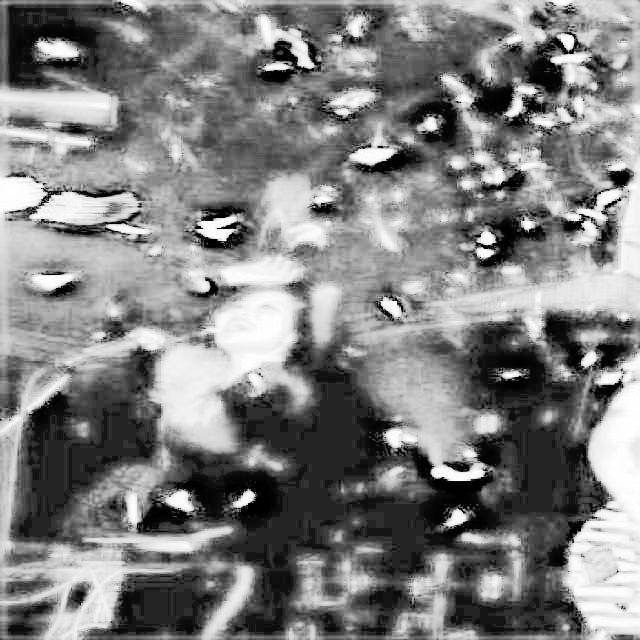Person: (96, 249, 342, 482)
